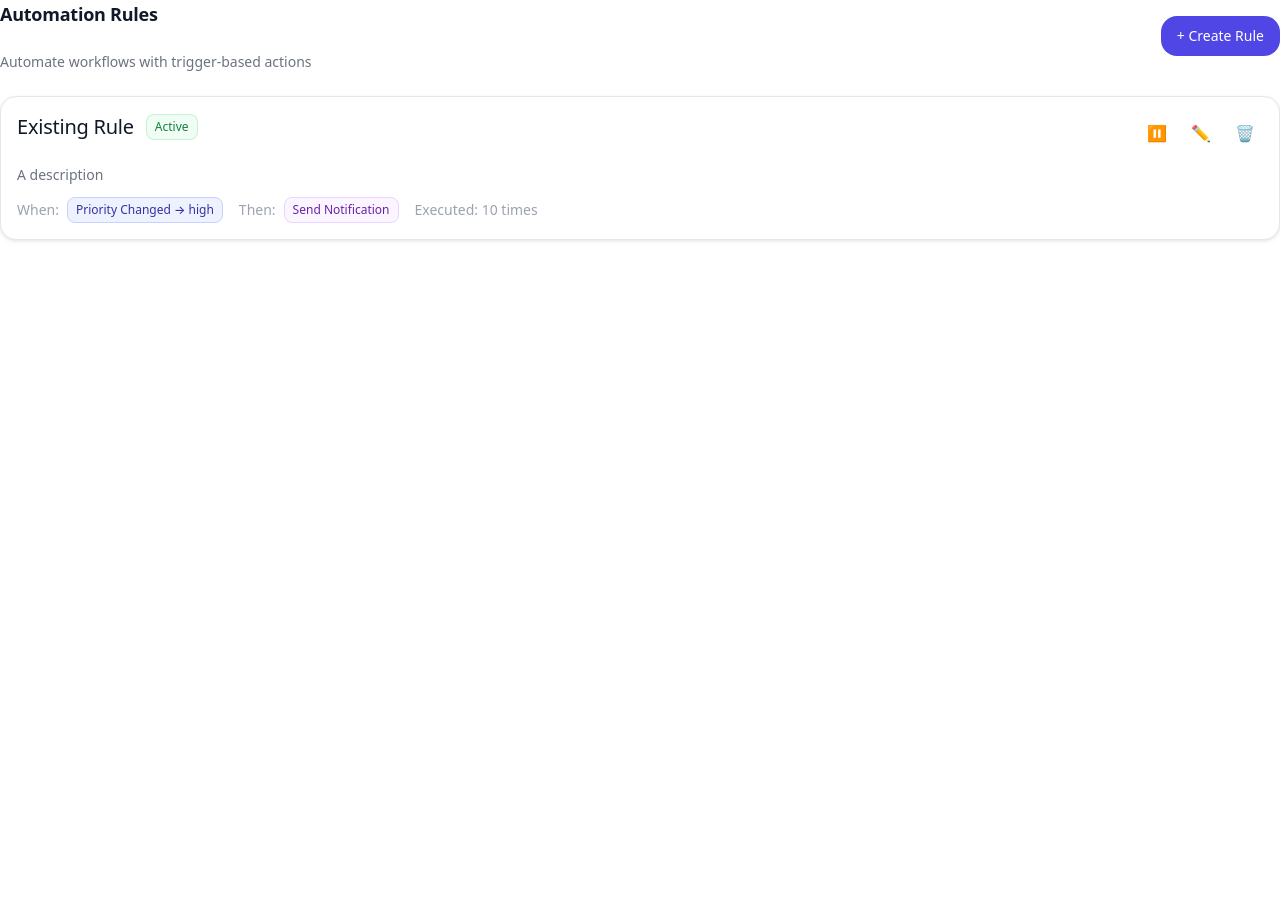
Test: AutomationRulesManager - Component Behavior › Edit Mode Behavior › should populate form when Edit clicked
This screenshot has width=1280, height=900.
Step 1. Click the button titled "Edit rule" → point(1201, 133), box [1183,113,1219,153]
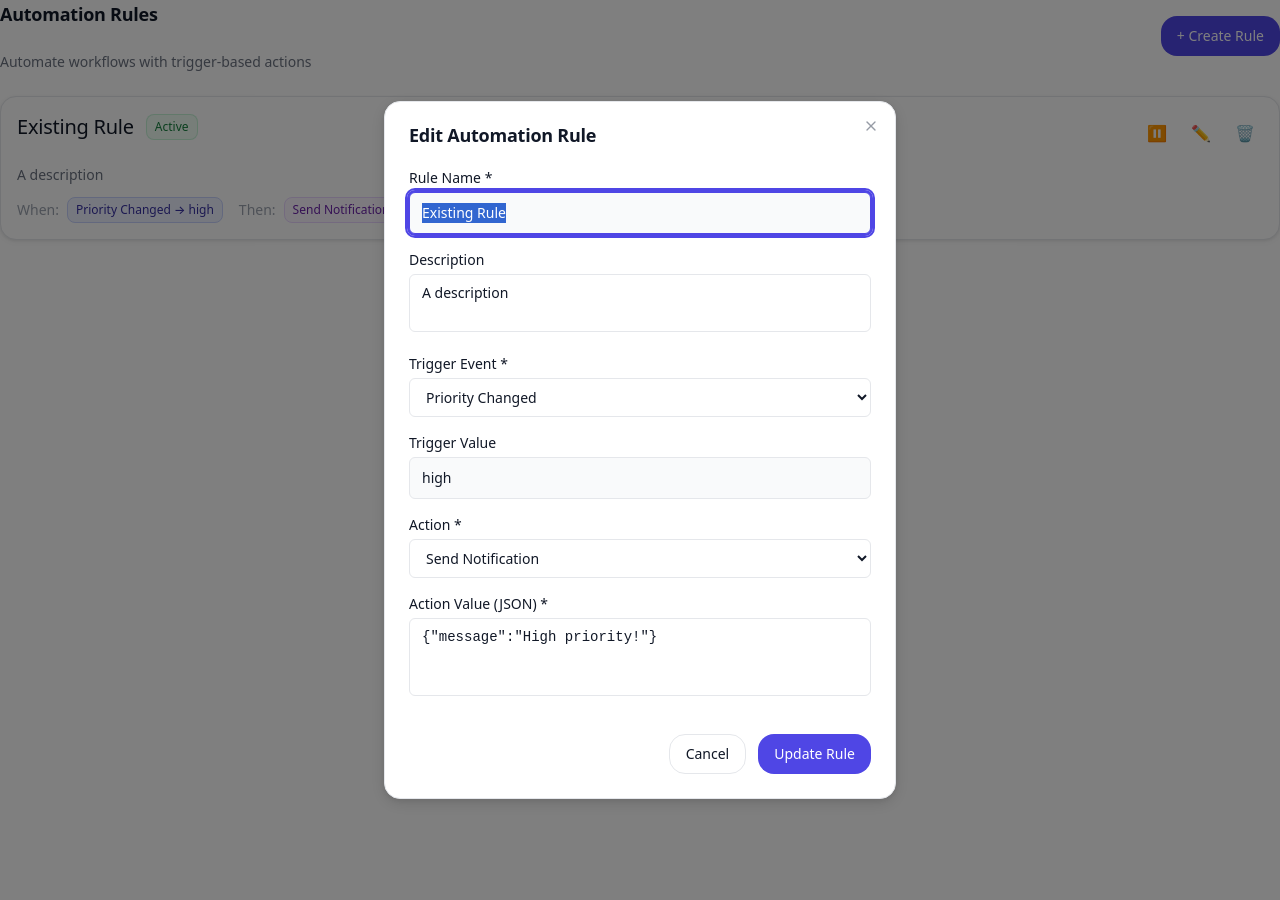
Expected: the field showing "Existing Rule" is shown, [409,192,871,234]
Expected: the text box showing "A description" is shown, [409,274,871,332]
Expected: the field showing "high" is shown, [409,457,871,499]
